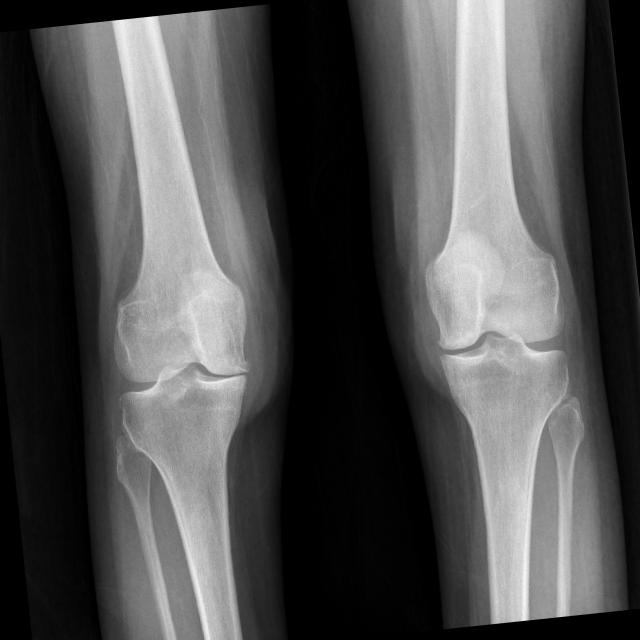Knee: (109, 308, 263, 441), (425, 272, 576, 401)
